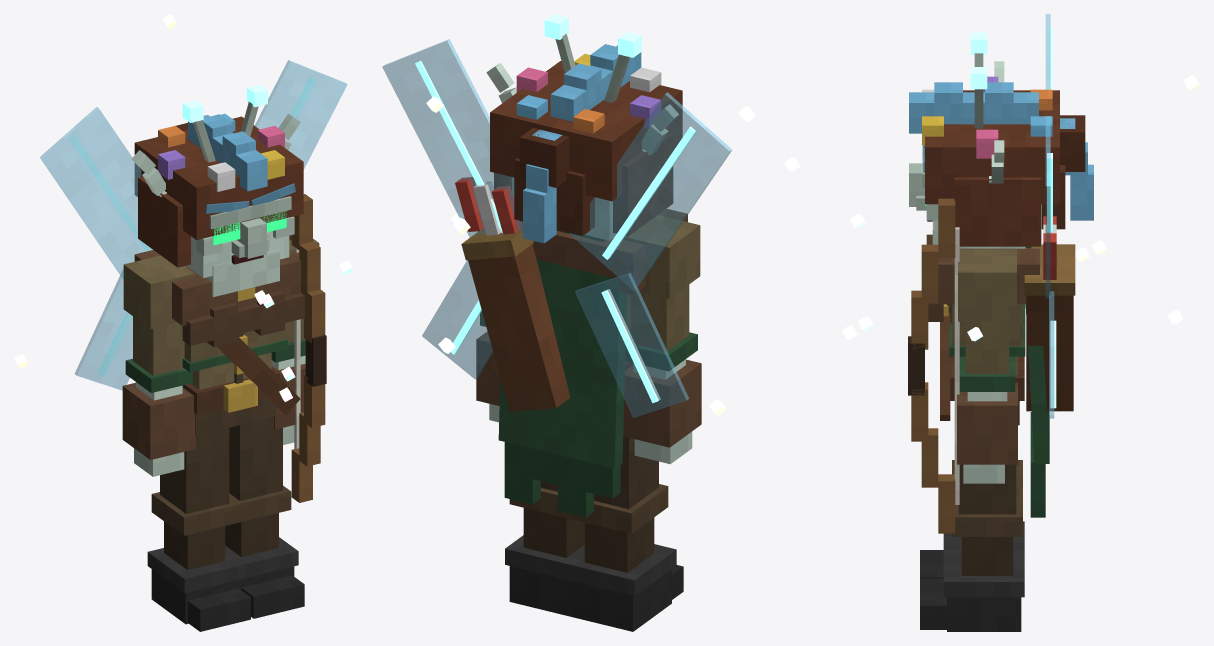
File: fairy_chasseur.glb
3 views of the same model, side by side, from view 1: azimuth 30°, elevation 25°; view 2: azimuth 150°, elevation 25°; view 3: azimuth 270°, elevation 25° (orthographic). The views are drawn at different scales.
Parts seen in each view (by area): view 1: Torso, Head, LegR, ArmR, LegL, HandL, ArmL; view 2: Torso, Head, ArmR, LegR, LegL, ArmL; view 3: Head, Torso, ArmL, LegL, HandL, LegR.
Part boxes in pixels (<box>): Torso: <box>14,14,353,435</box>; Head: <box>131,84,303,297</box>; LegR: <box>147,428,250,631</box>; ArmR: <box>122,255,195,476</box>; LegL: <box>225,417,304,618</box>; HandL: <box>291,194,326,502</box>; ArmL: <box>271,239,319,444</box>; Torso: <box>382,39,755,517</box>; Head: <box>486,14,682,243</box>; ArmR: <box>623,215,701,464</box>; LegR: <box>565,436,683,631</box>; LegL: <box>505,481,584,616</box>; ArmL: <box>476,311,500,422</box>; Head: <box>909,32,1093,248</box>; Torso: <box>784,14,1199,517</box>; ArmL: <box>957,249,1017,483</box>; LegL: <box>920,464,1024,631</box>; HandL: <box>908,198,959,533</box>; LegR: <box>920,460,1024,578</box>.
Bounding box in the file's own units: 0.7287 × 1.11 × 0.7622.
52 materials, 52 textured.
